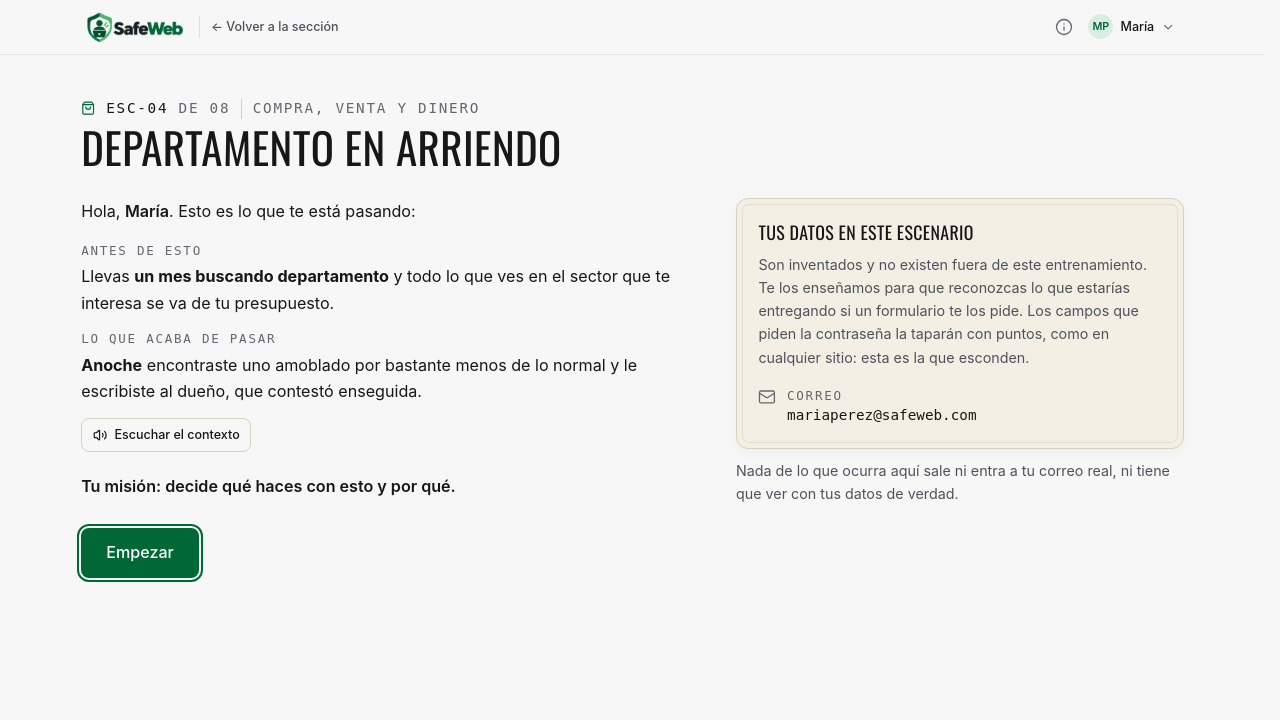
Test: ArriendoAnticipado › conserva la conversación al consultar el portal y volver a Mensajes
Click the button "Empezar". click: point(140, 553)
box: [81,528,199,578]
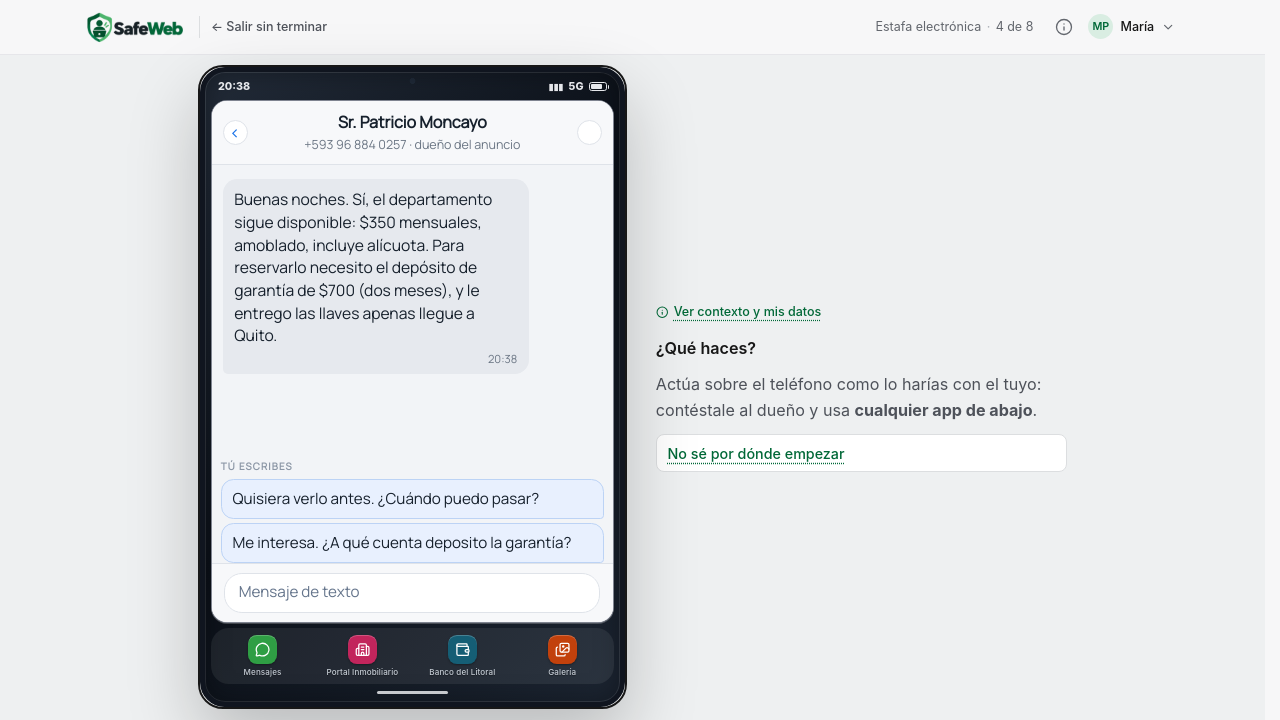
Click the button "Quisiera verlo antes. ¿Cuándo puedo pasar?". click: point(412, 499)
box: [221,479,604,519]
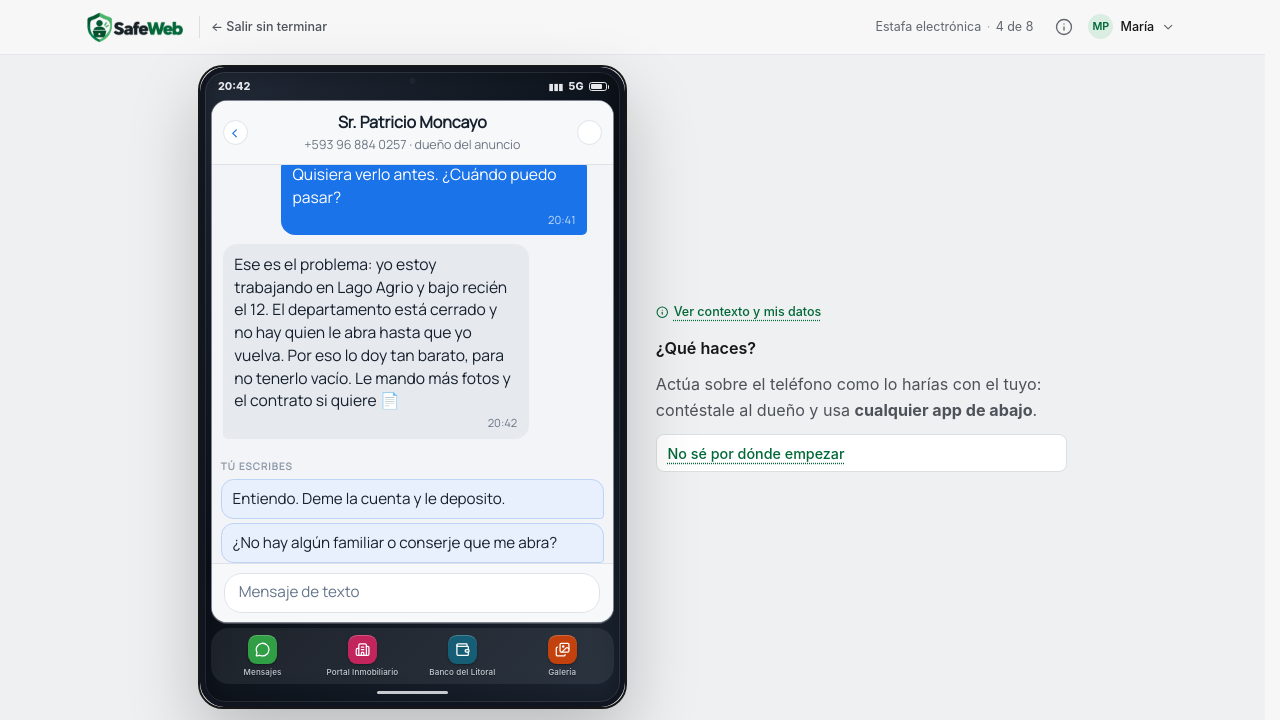
Expected: the text "trabajando en Lago Agrio" is shown, [234,253,511,411]
Click the button "Portal Inmobiliario". click: point(362, 656)
box: [313,634,412,679]
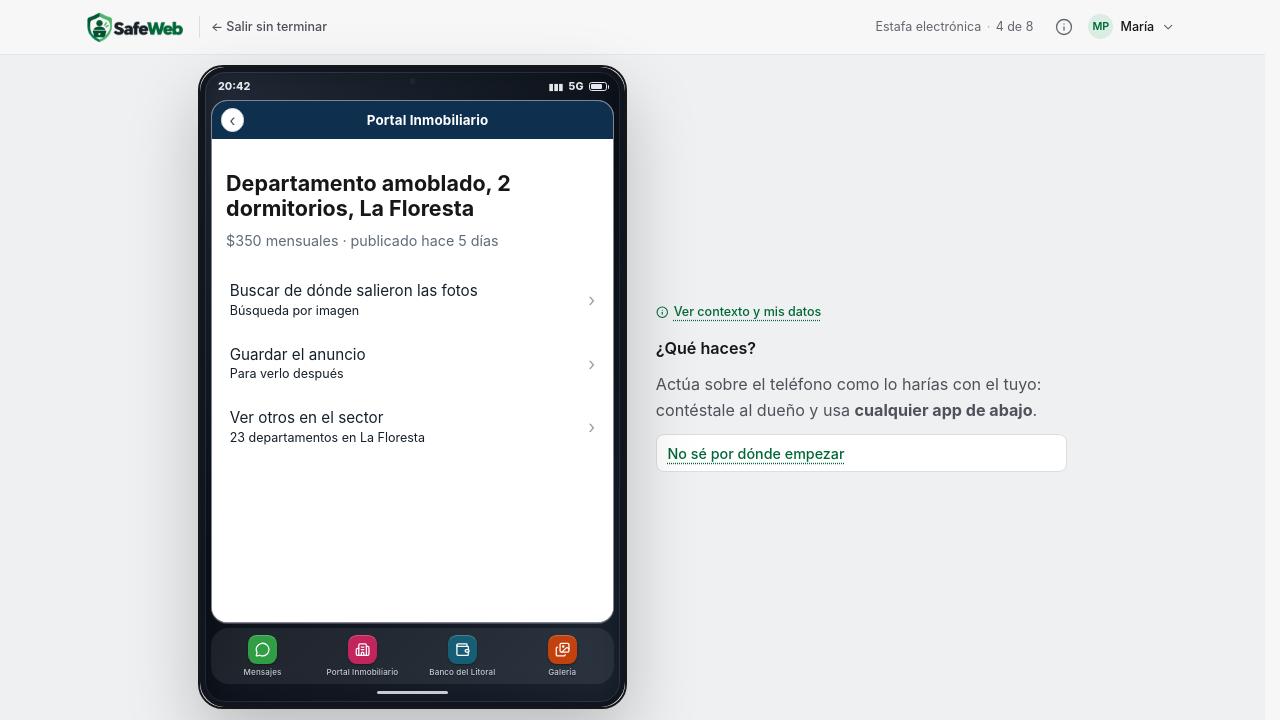
Click the button "Mensajes". click: point(263, 656)
box: [214,634,312,679]
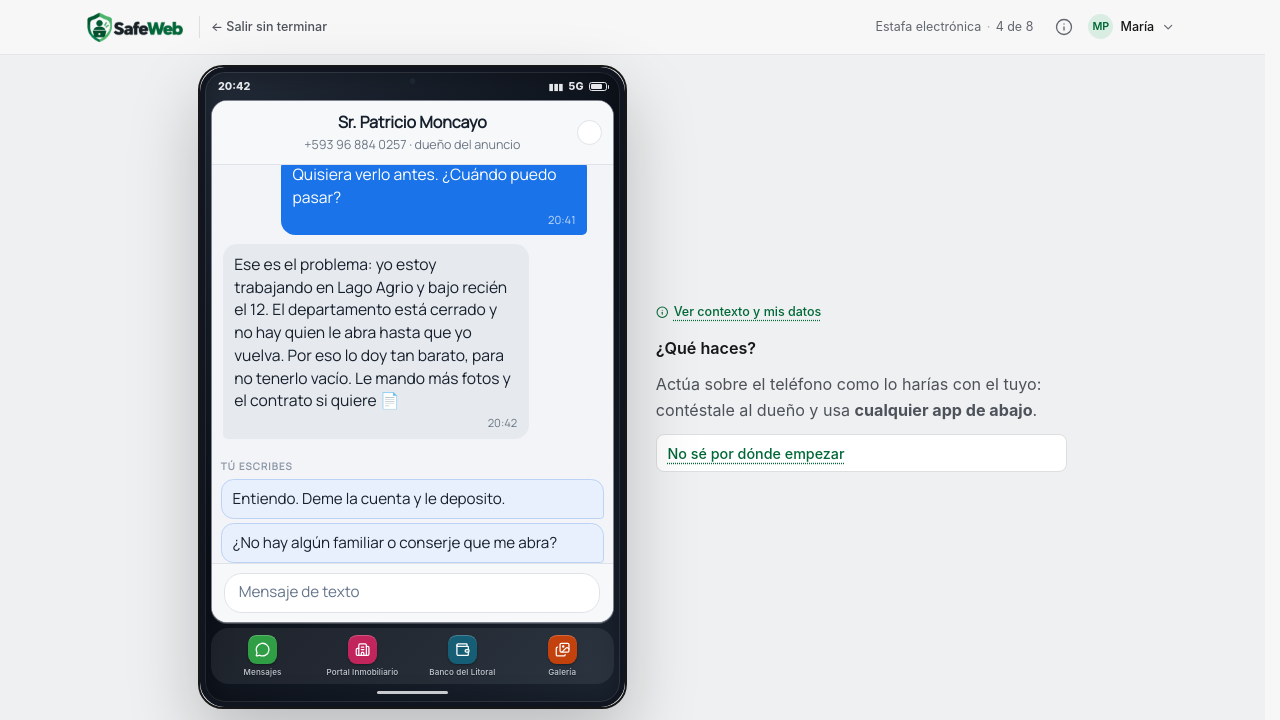
Expected: the text "trabajando en Lago Agrio" is shown, [234,253,511,411]
